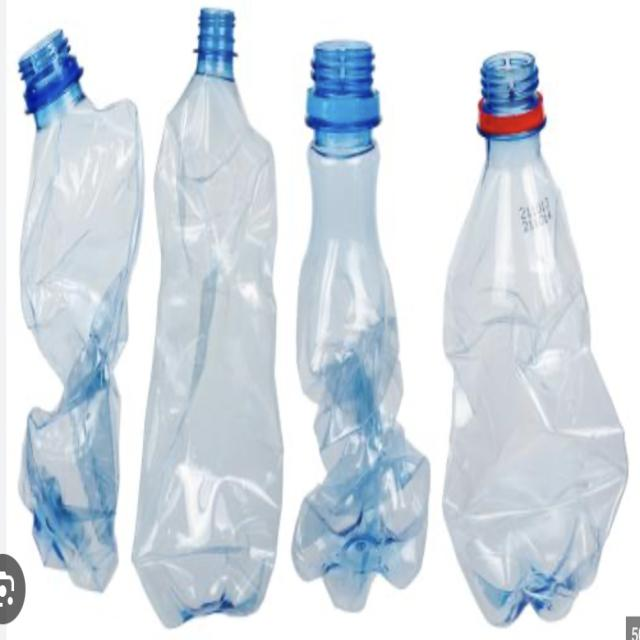recyclable: (425, 28, 636, 628), (272, 18, 443, 614), (132, 3, 287, 632), (9, 15, 152, 599)
